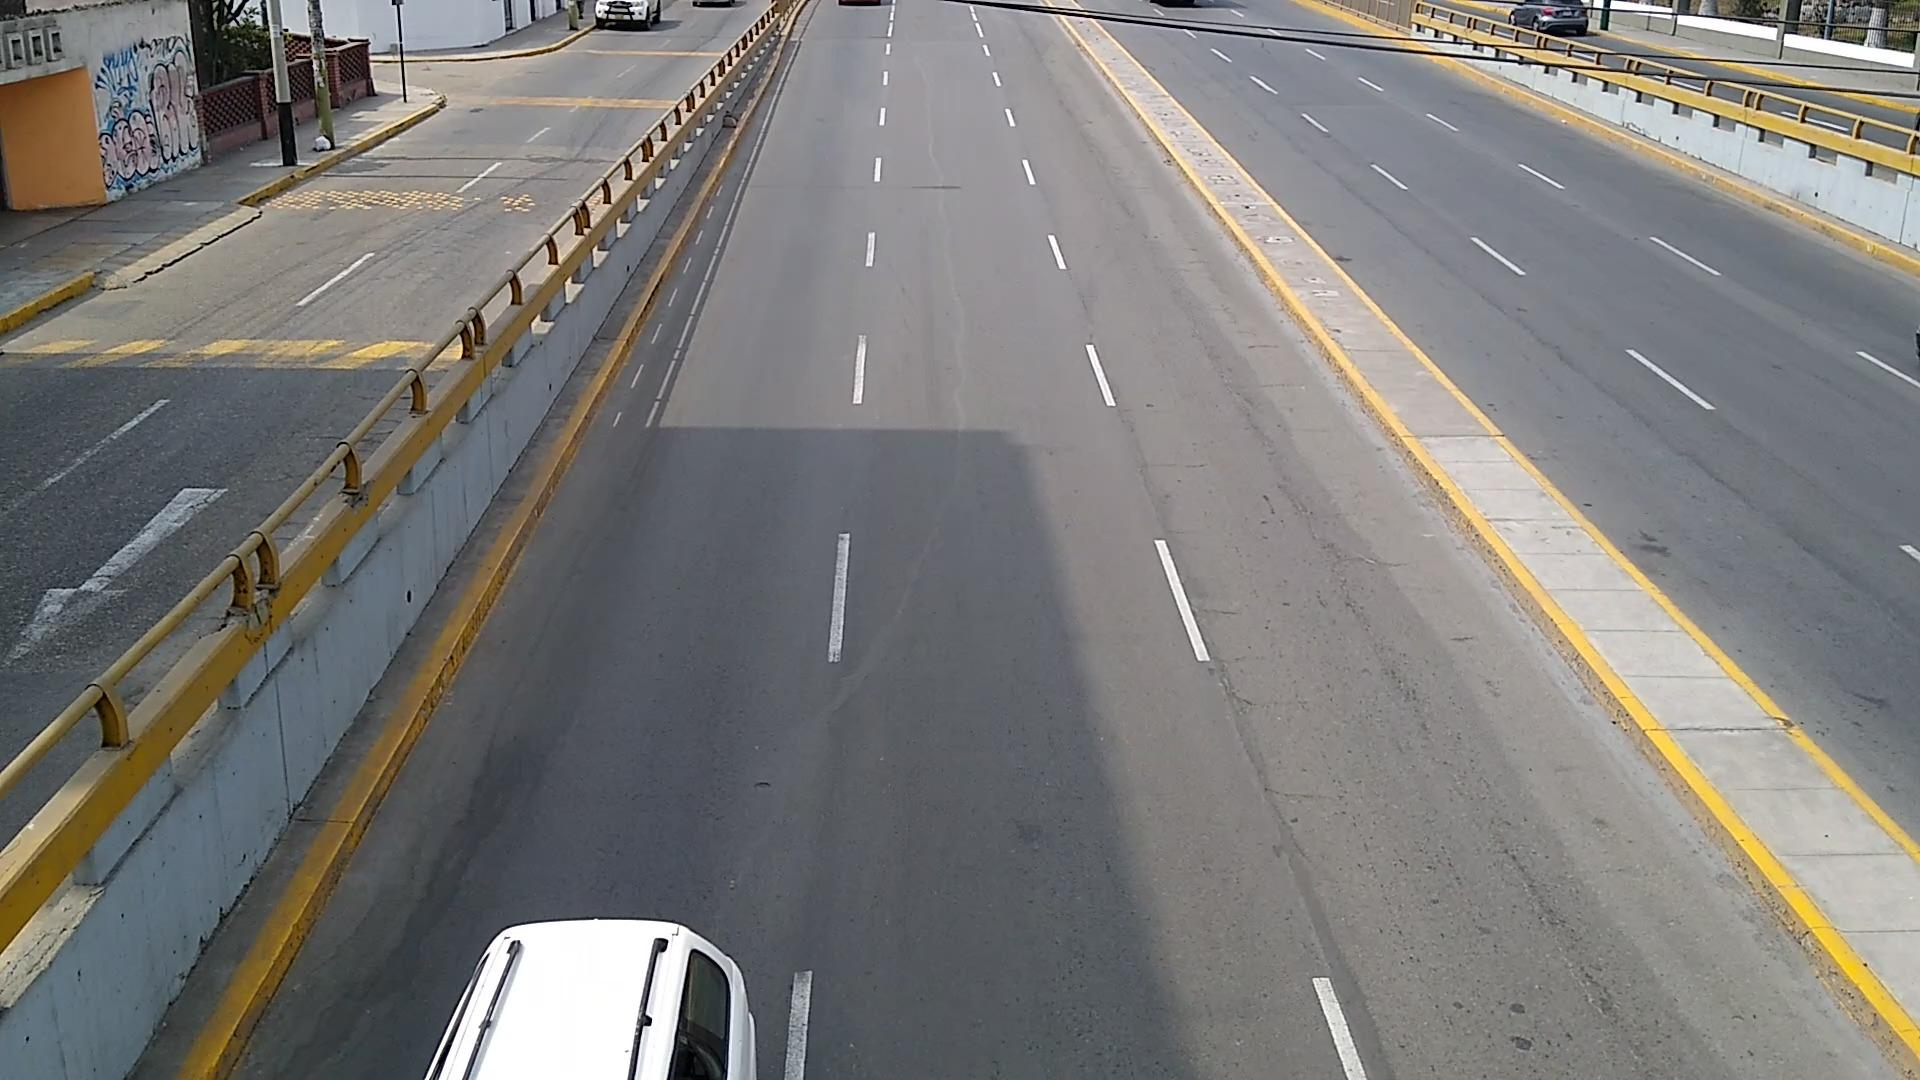car: (427, 919, 757, 1080), (1511, 0, 1590, 34), (596, 0, 659, 28)
